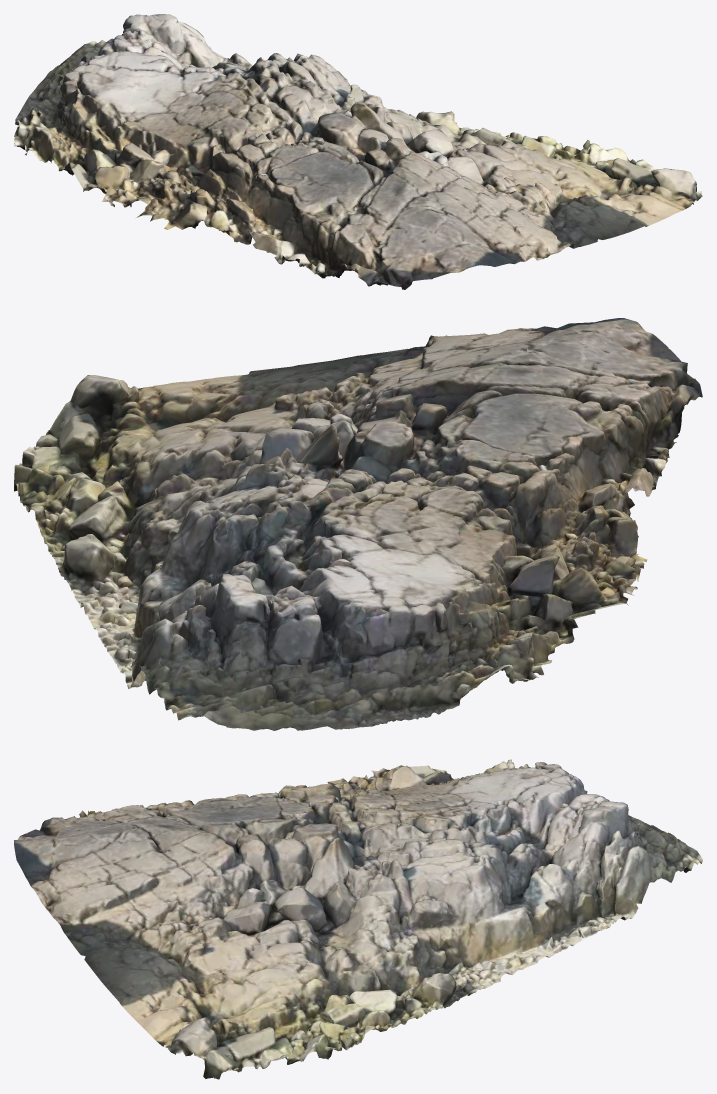
Rendered from beach_reef.glb.
3 renders of one model, top to bottom at view 1: azimuth 30°, elevation 25°; view 2: azimuth 150°, elevation 25°; view 3: azimuth 270°, elevation 25°, orthographic. The views are drawn at different scales.
Visible parts, largest first — view 1: Object_2; view 2: Object_2; view 3: Object_2.
Boxes of the visible parts, <box> form: Object_2: <box>14,14,702,289</box>; Object_2: <box>14,318,702,730</box>; Object_2: <box>14,759,702,1079</box>.
Size of the model in its own units: 13.14 by 2.9 by 15.6.
1 material, 1 textured.
